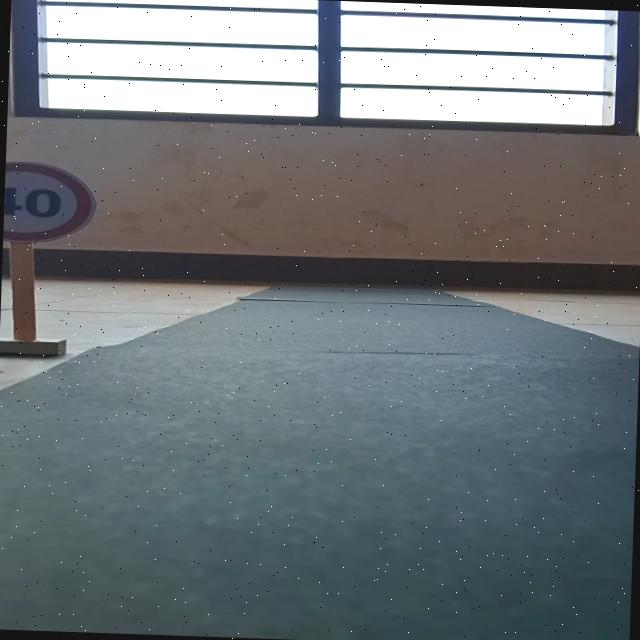Speed40: (2, 150, 112, 255)
